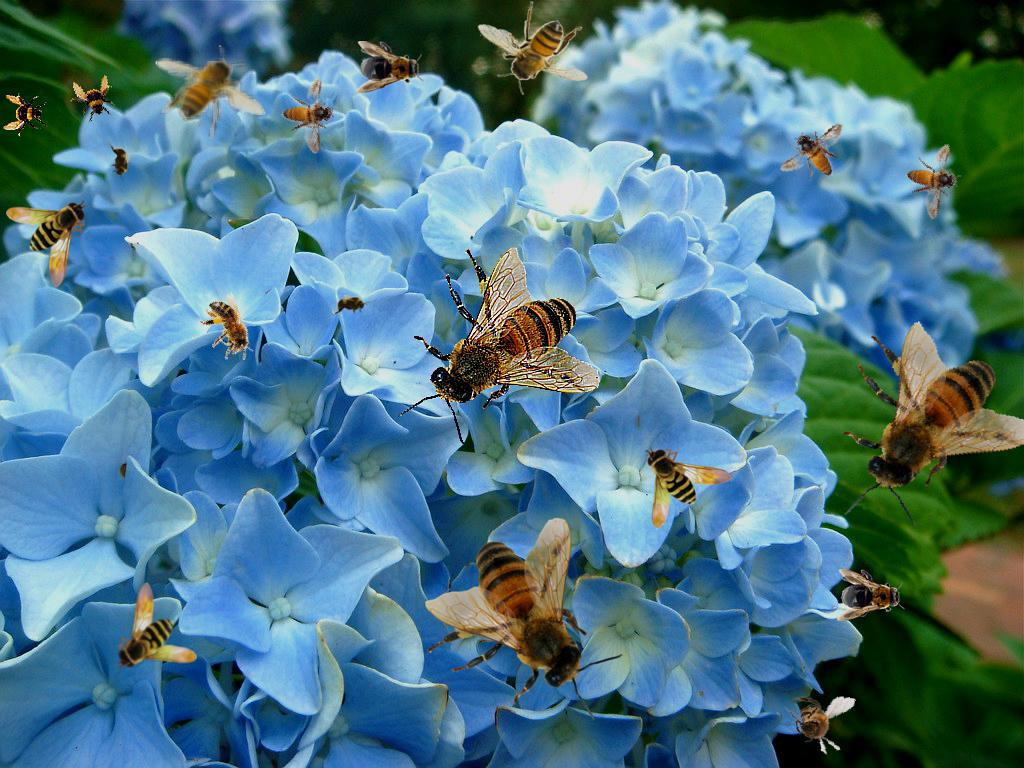Bee: (803, 300, 1024, 544), (397, 247, 601, 446), (425, 517, 624, 721), (477, 1, 588, 95), (155, 45, 266, 139), (6, 200, 88, 288), (115, 582, 197, 670), (645, 446, 733, 528), (893, 134, 975, 221), (272, 69, 348, 156), (192, 290, 266, 371), (777, 687, 856, 759), (772, 122, 854, 187), (837, 569, 905, 621), (356, 41, 424, 93), (65, 71, 121, 127), (3, 93, 47, 137), (331, 294, 371, 316), (109, 142, 131, 182)
